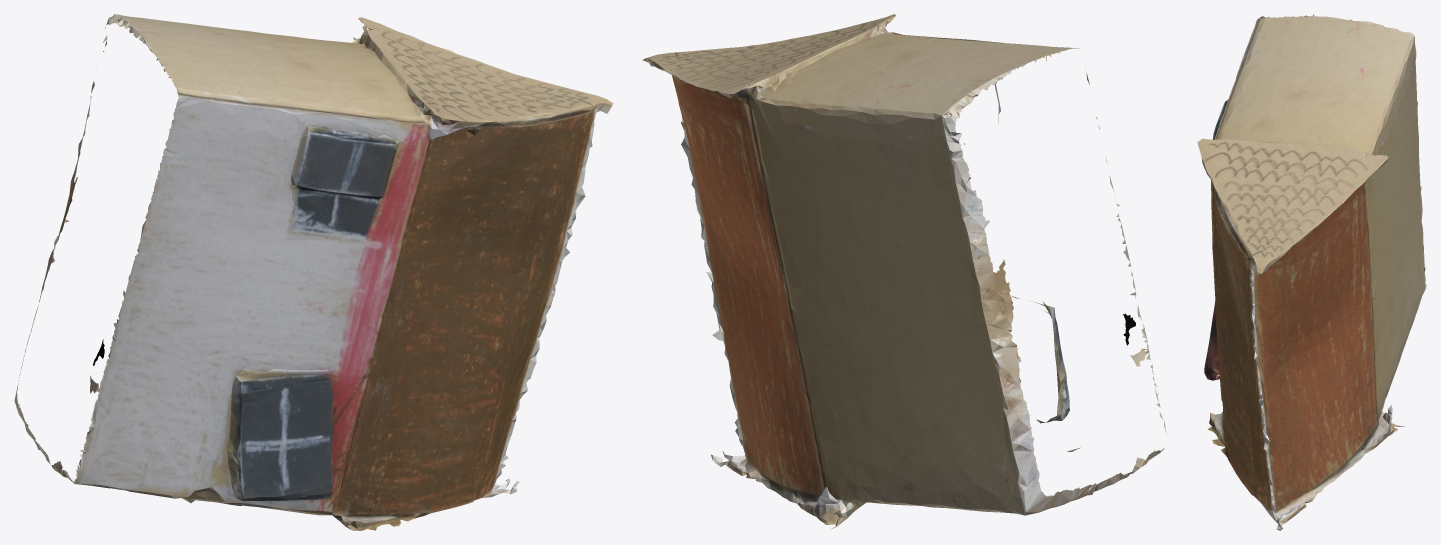
The model's file is m18_5K_1024tex.glb.
The picture shows the model from 3 angles, left to right: view 1: azimuth 30°, elevation 25°; view 2: azimuth 150°, elevation 25°; view 3: azimuth 270°, elevation 25°; orthographic projection. The views are drawn at different scales.
Bounding box in the file's own units: 2.43 × 2.21 × 1.17.
Materials: 1 (1 with a texture image).
